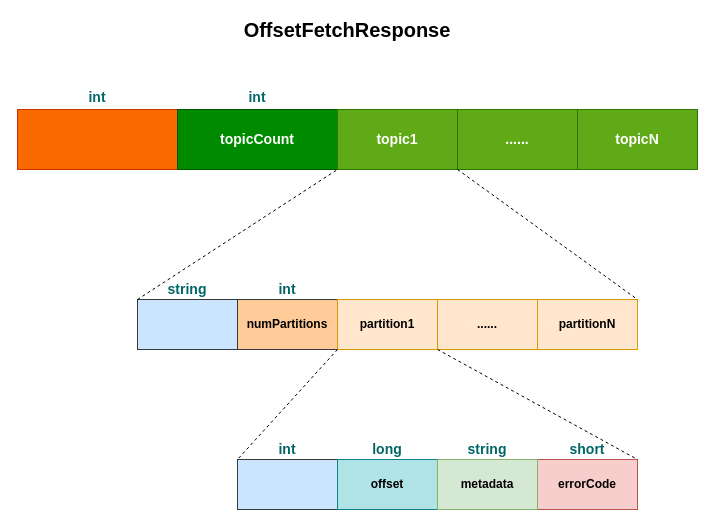
This 715x527 diagram has some shape labels left out. The shapes that lost their labels are listed below. From the top down, each one's centre as x and y in pixels, then its label:
the point at 97,139: correlationId
the point at 187,324: topicName
the point at 287,484: partitionId
